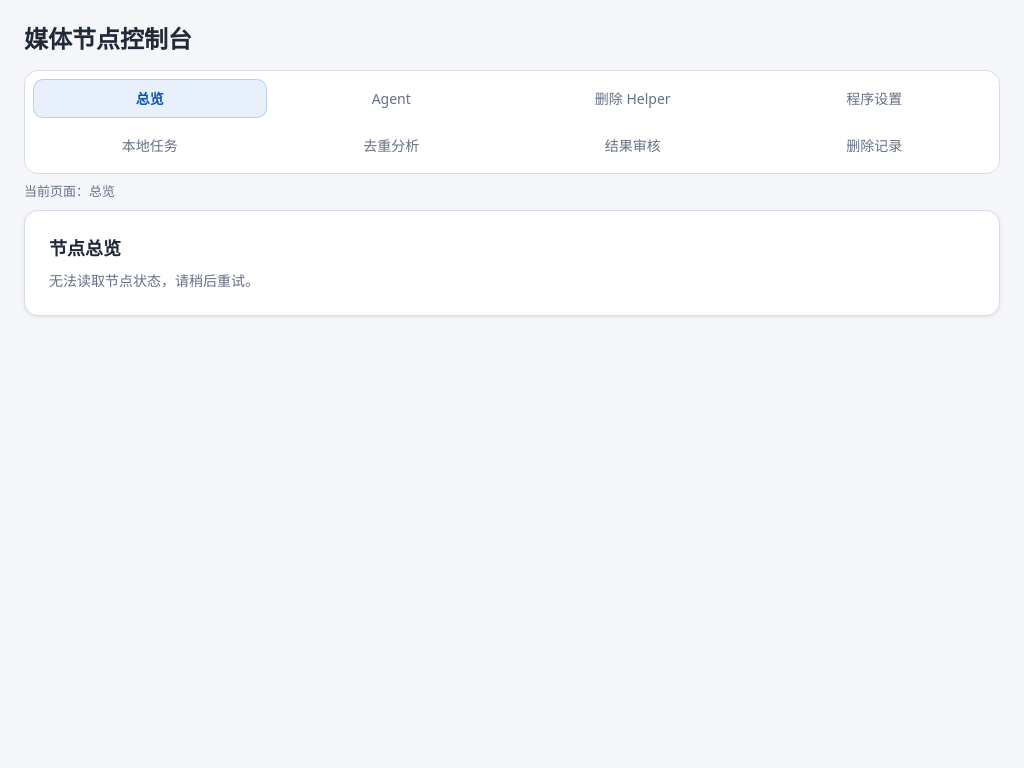
App shell › 页签隐藏不卸载 dirty 草稿，原生关闭时明确提示未保存修改
Step 1. Click the tab "程序设置" → (874, 98), box [758, 79, 991, 118]
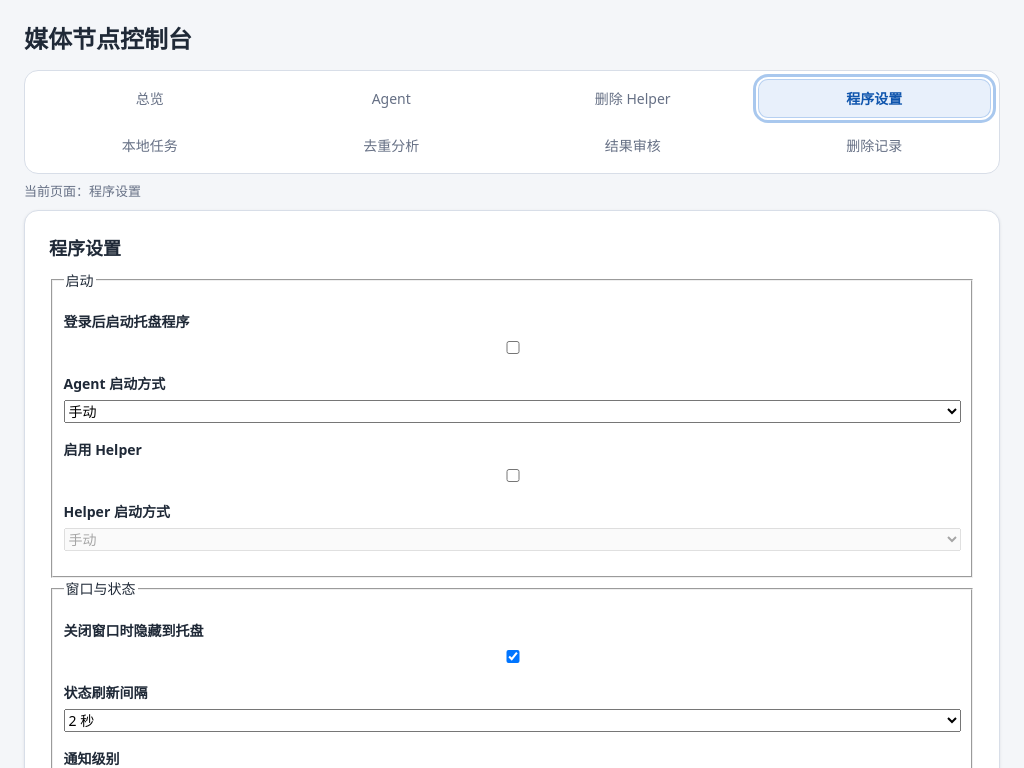
Step 2. Click the checkbox labelled "登录后启动托盘程序" → (512, 348), box [68, 341, 958, 354]
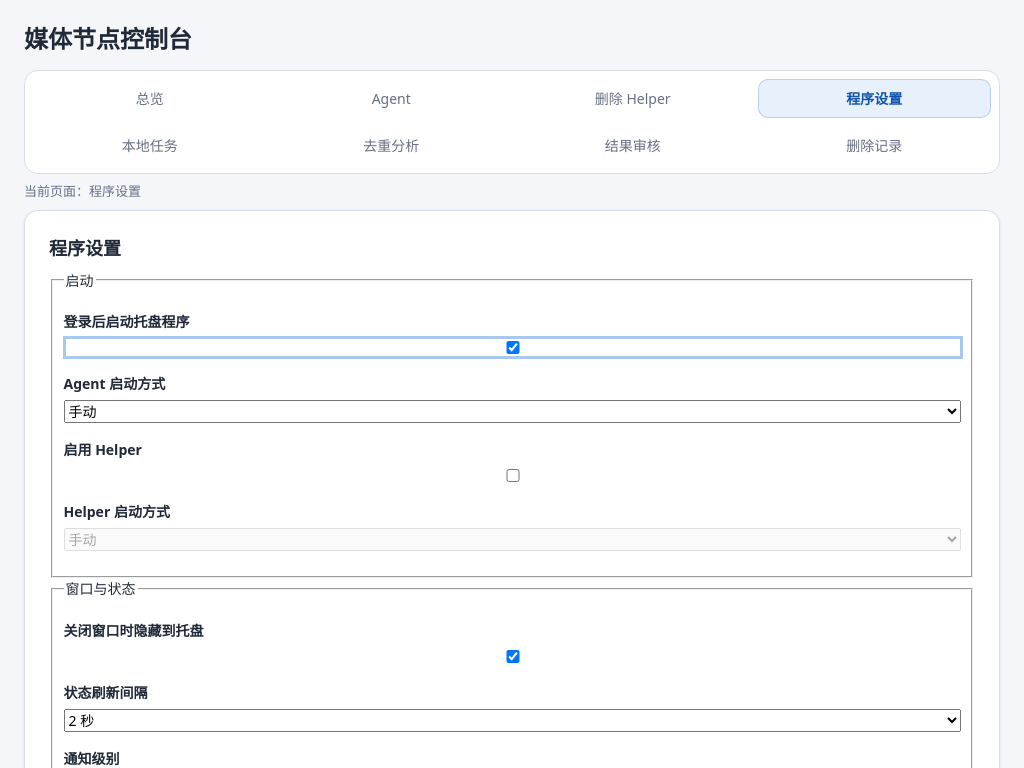
Expected: the checkbox labelled "登录后启动托盘程序" is checked, [68, 341, 958, 354]
Step 3. Click the tab "总览" → (150, 98), box [33, 79, 266, 118]
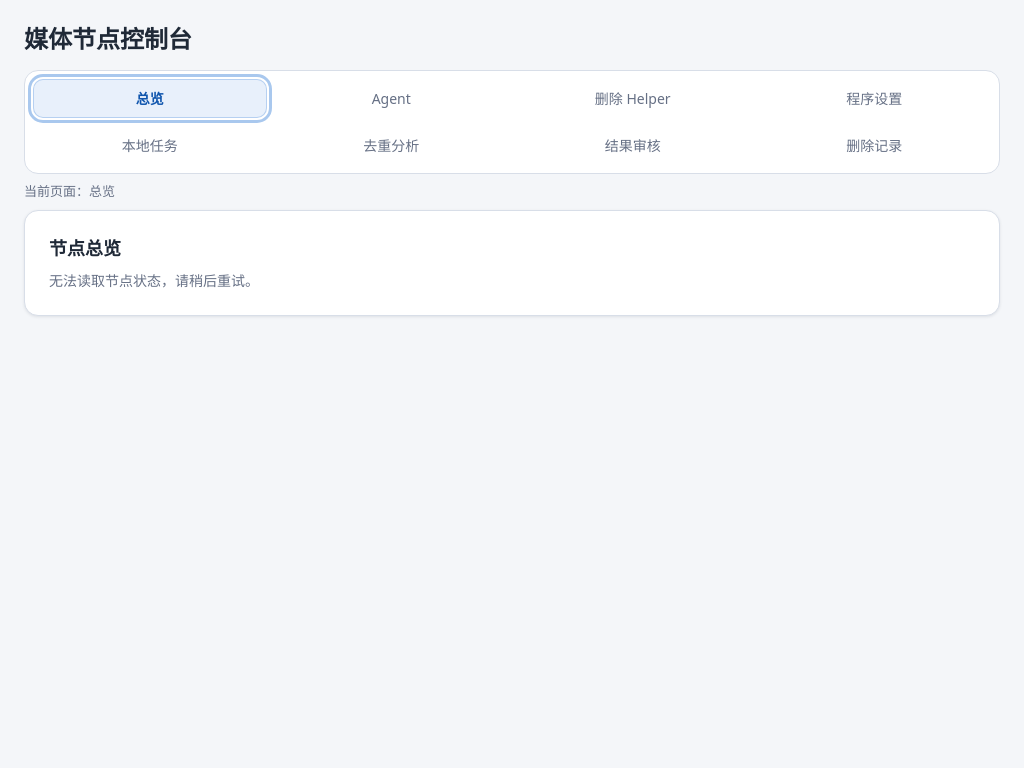
Step 4. Click the tab "程序设置" → (874, 98), box [758, 79, 991, 118]
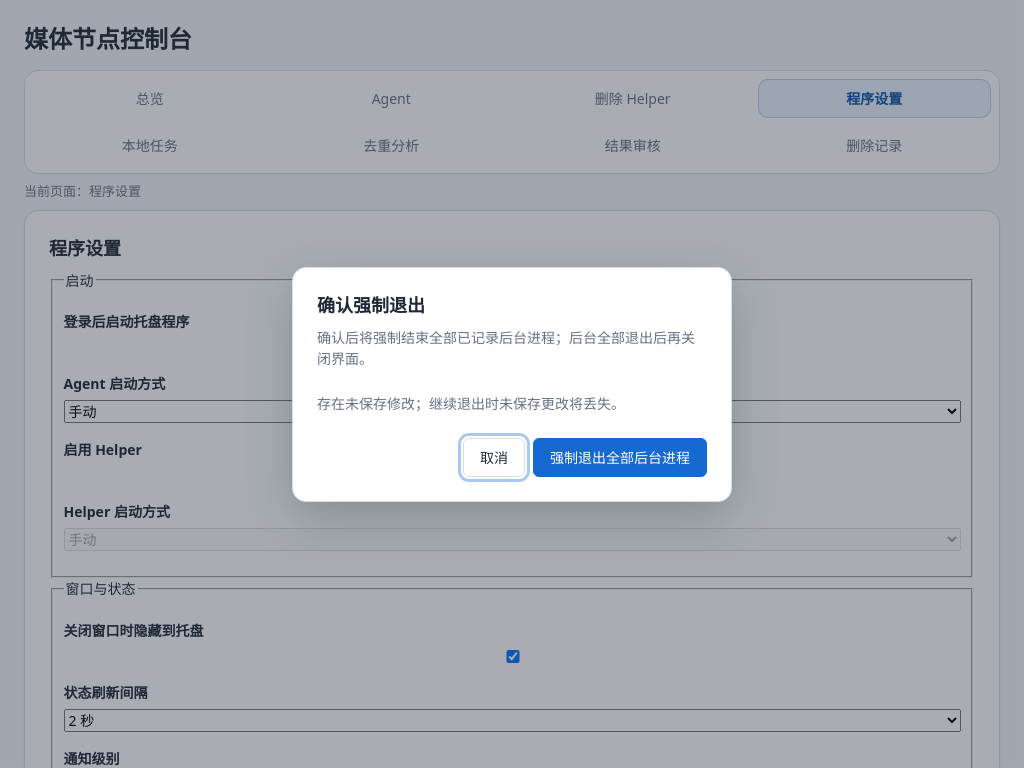
Expected: the checkbox labelled "登录后启动托盘程序" is checked, [68, 341, 958, 354]
Expected: the text "存在未保存修改；继续退出时未保存更改将丢失。" is shown, [317, 394, 625, 412]
